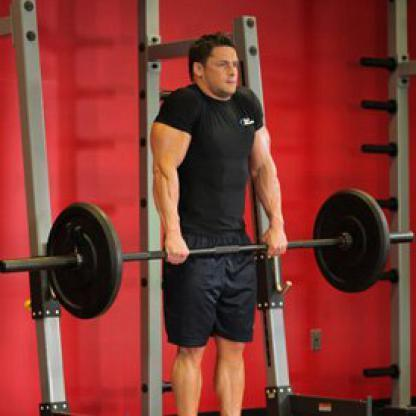barbell: (0, 185, 416, 319)
